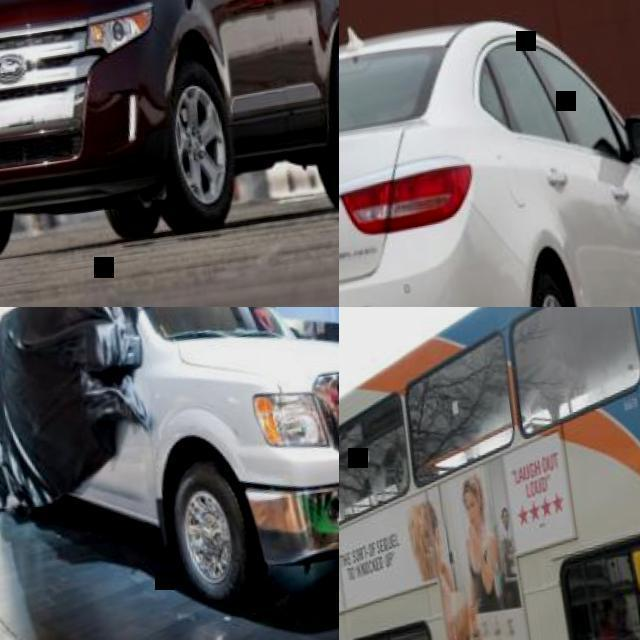car: (337, 15, 639, 306), (70, 0, 306, 234), (560, 522, 639, 638)
